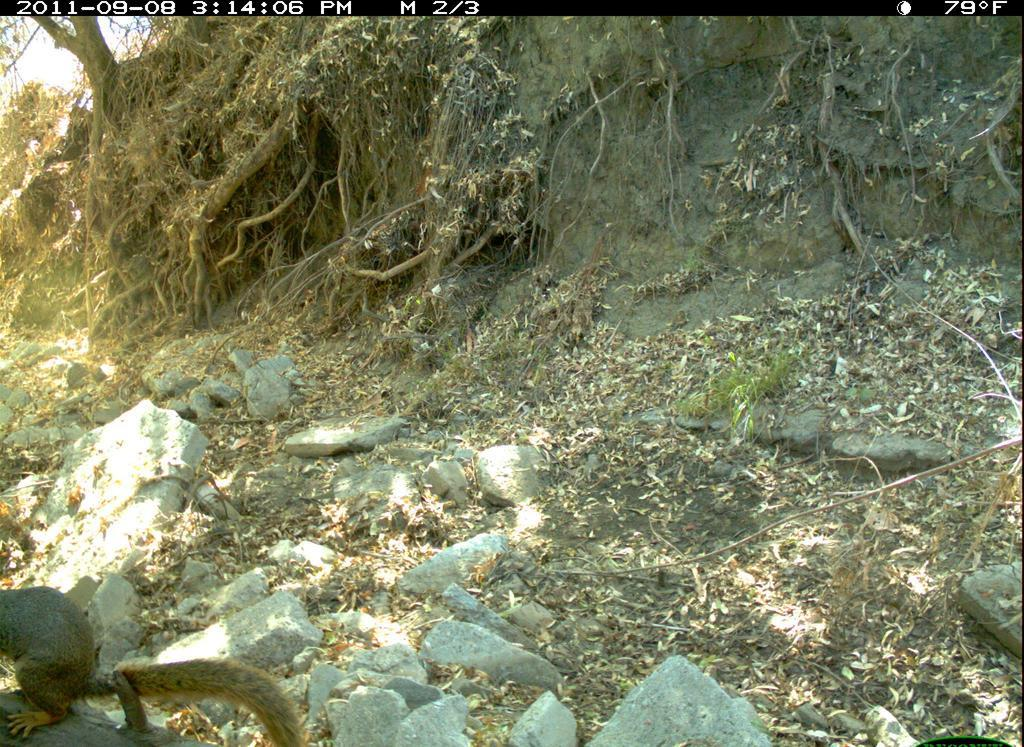squirrel: (7, 580, 315, 745)
